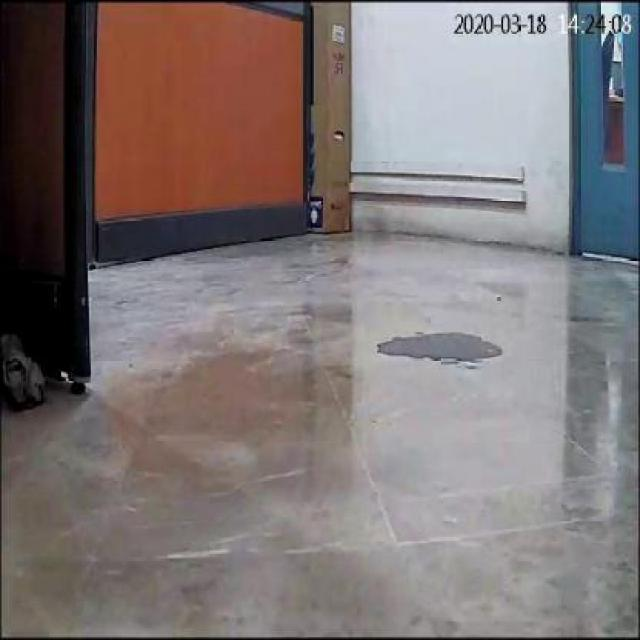spill: (376, 328, 498, 366)
